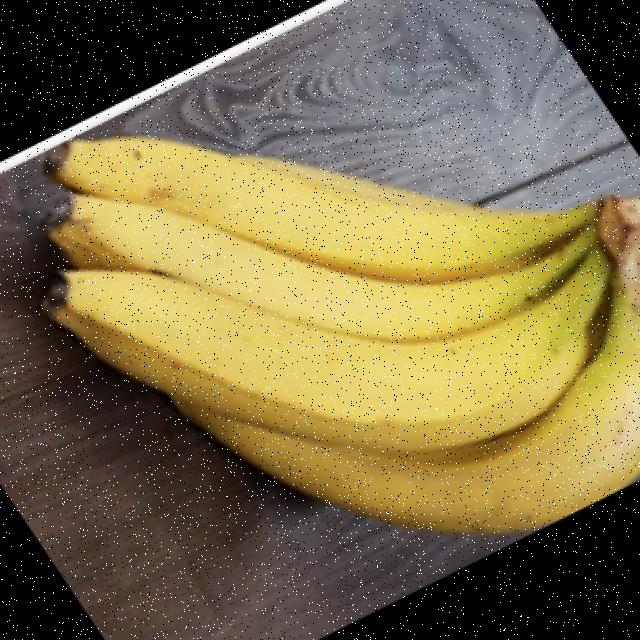god quality banana: (44, 138, 638, 533)
